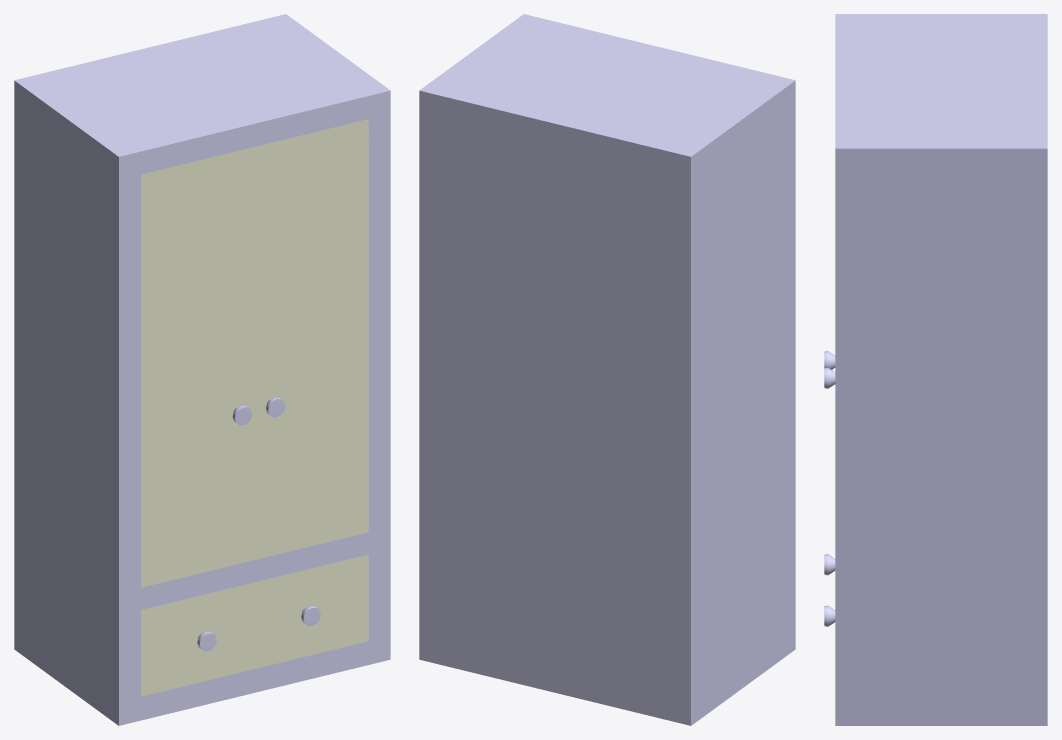
Rendered from closet2_purple.glb.
3 renders of one model, left to right at view 1: azimuth 30°, elevation 25°; view 2: azimuth 150°, elevation 25°; view 3: azimuth 270°, elevation 25°, orthographic.
Parts seen in each view (by area): view 1: Box002; view 2: Box002; view 3: Box002.
Part boxes in pixels (bbox=[...]): Box002: bbox=[14, 14, 390, 725]; Box002: bbox=[419, 14, 795, 725]; Box002: bbox=[824, 14, 1047, 725].
Bounding box in the file's own units: 0.12 × 0.24 × 0.0842.
Materials: 1 (1 with a texture image).
